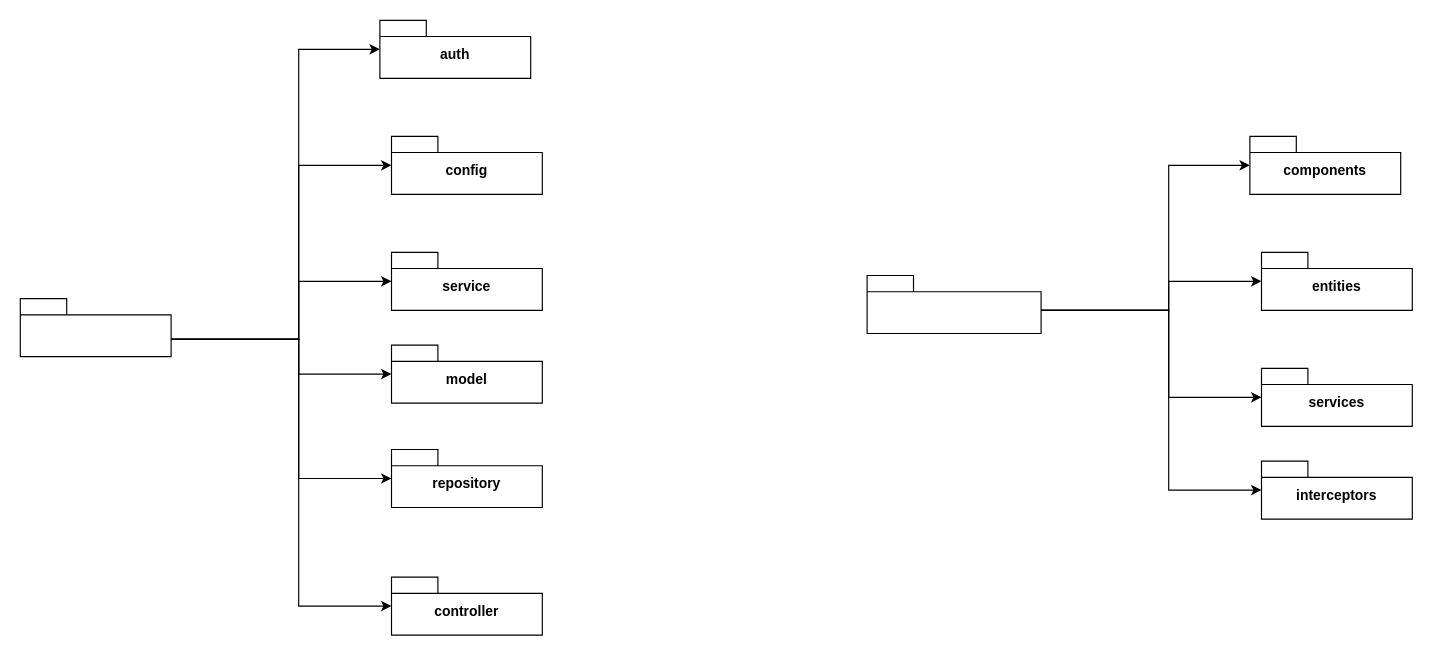
Image size: 1433x655. Some labels were removed from this diagram. The box of each missing label's shape, as (x1, y1, x2, y2) in pixels:
ecommerce-client/app: (866, 274, 1041, 334)
ecommercegt: (19, 298, 171, 357)
